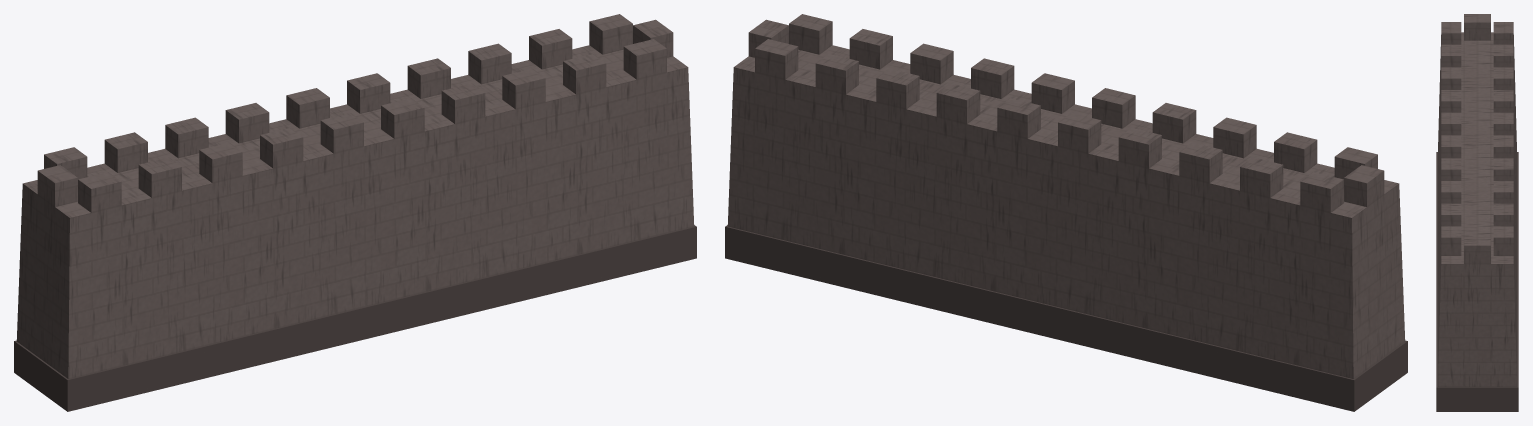
File: SM_Souq_Wall_H24.fbx
3 renders of one model, left to right at view 1: azimuth 30°, elevation 25°; view 2: azimuth 150°, elevation 25°; view 3: azimuth 270°, elevation 25°, orthographic. The views are drawn at different scales.
Parts seen in each view (by area): view 1: SM_Souq_Wall_H24; view 2: SM_Souq_Wall_H24; view 3: SM_Souq_Wall_H24.
Part boxes in pixels (left/top/right/bottom): SM_Souq_Wall_H24: left=14, top=14, right=696, bottom=411; SM_Souq_Wall_H24: left=725, top=14, right=1407, bottom=411; SM_Souq_Wall_H24: left=1436, top=14, right=1518, bottom=411.
Size of the model in its own units: 830 by 270 by 122.
2 materials, 2 textured.
